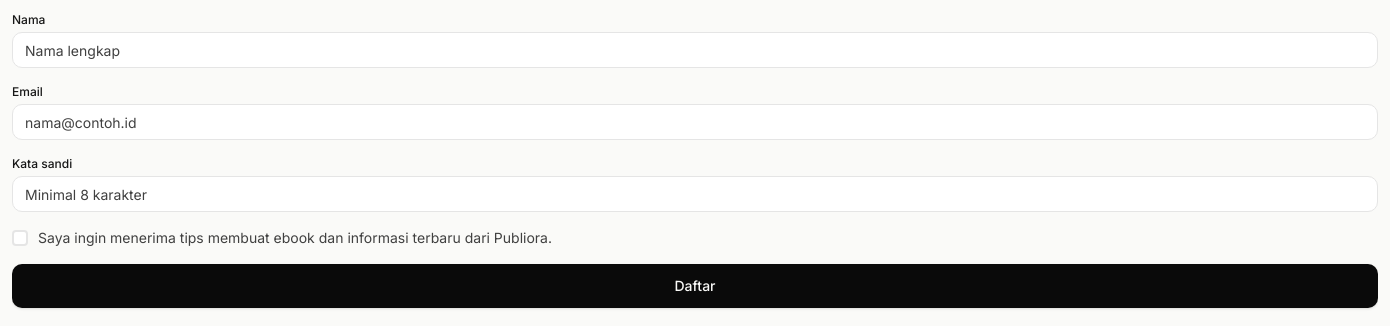
Test case: RegisterForm › shows friendly email confirmation card when email confirmation is required
The width and height of the screenshot is (1390, 326).
Type "Nara Pustaka" into the field labelled "Nama" at (695, 50), box x1=12 y1=32 x2=1378 y2=68
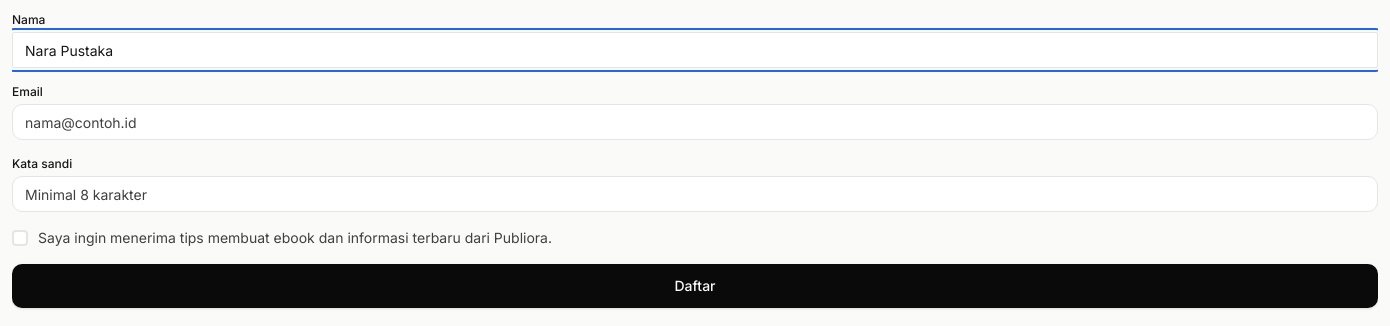
Type "nara@contoh.id" into the field labelled "Email" at (695, 122), box x1=12 y1=104 x2=1378 y2=140
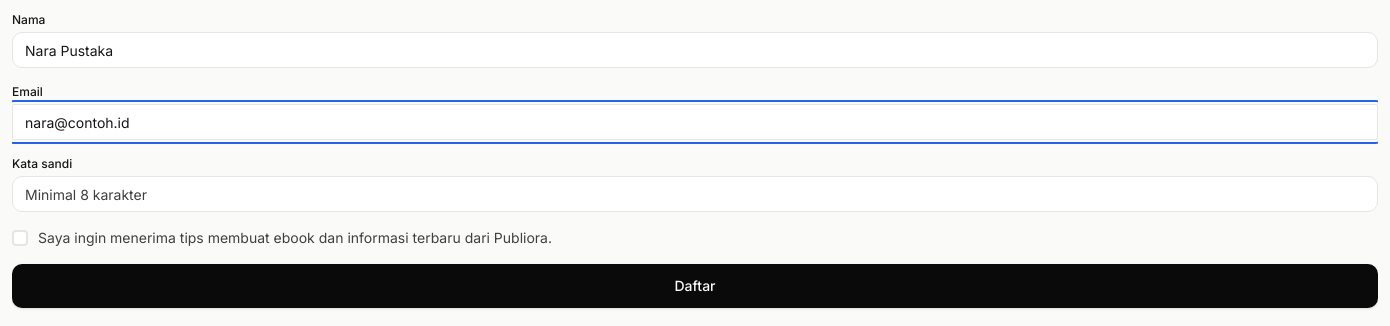
Type "rahasia123" into the password field labelled "Kata sandi" at (695, 194), box x1=12 y1=176 x2=1378 y2=212
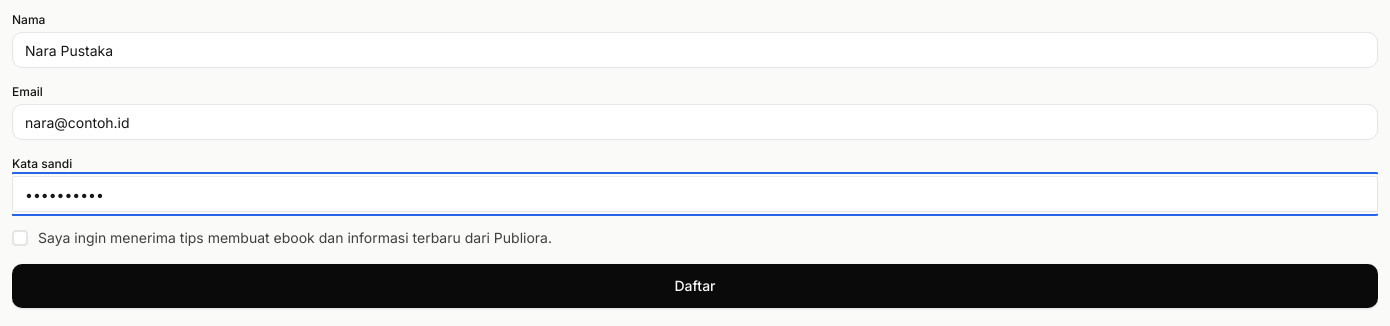
Click the button "Daftar" at (695, 286), box x1=12 y1=264 x2=1378 y2=308
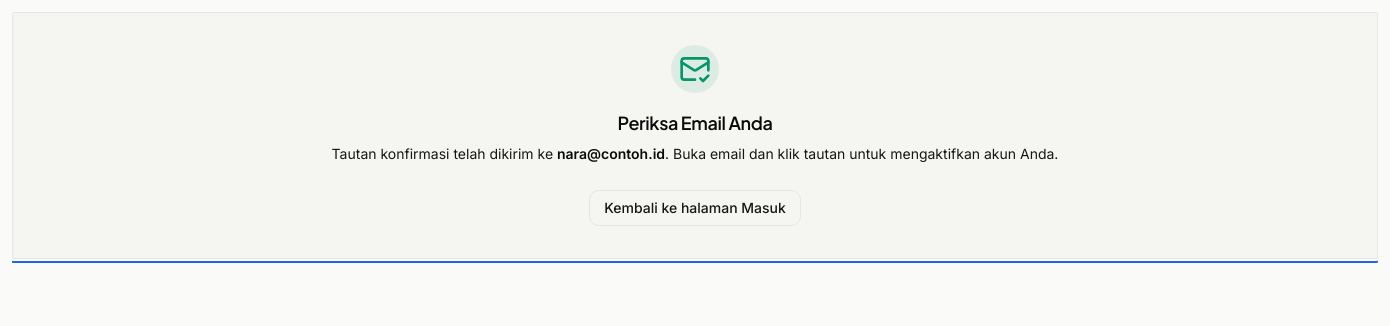
expect the heading "Periksa Email Anda" is shown: met, box x1=618 y1=111 x2=772 y2=134
expect the text "nara@contoh.id" is shown: met, box x1=557 y1=145 x2=665 y2=162
expect the text "Tautan konfirmasi telah dikirim ke" is shown: met, box x1=332 y1=145 x2=553 y2=162
